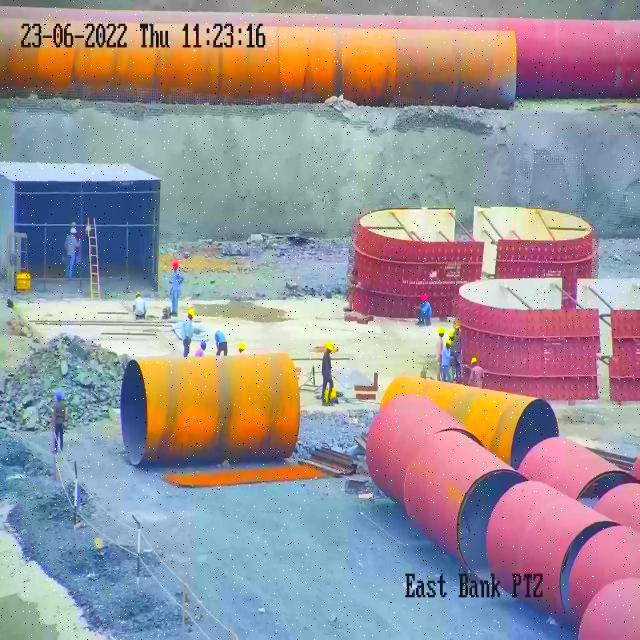Helmet: (325, 341, 333, 350), (237, 340, 245, 349), (438, 327, 446, 334), (448, 331, 456, 338), (172, 260, 179, 267), (422, 292, 428, 300), (189, 308, 195, 315), (200, 340, 207, 346), (56, 391, 62, 398), (471, 357, 477, 363), (446, 338, 452, 344), (70, 226, 76, 232)
